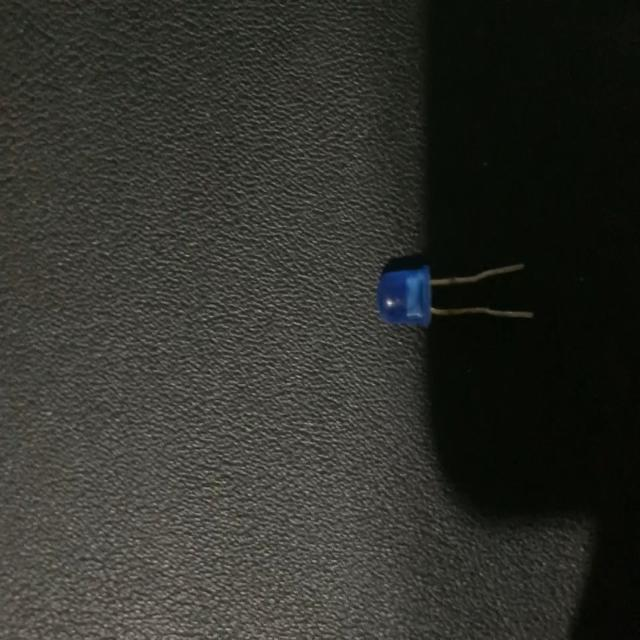LED: (375, 254, 537, 338)
